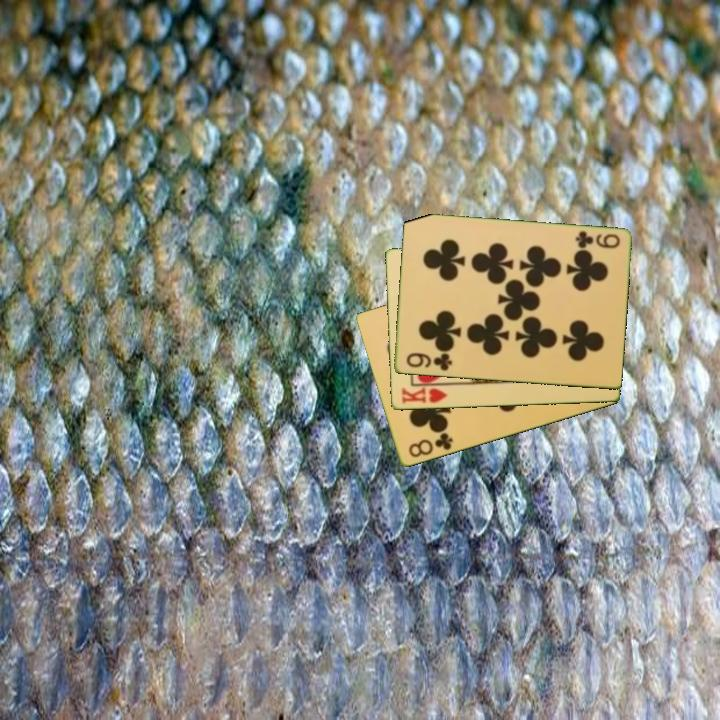8c: (405, 429, 456, 461)
9c: (403, 349, 455, 374), (572, 228, 622, 252)
Kh: (398, 382, 452, 407)
